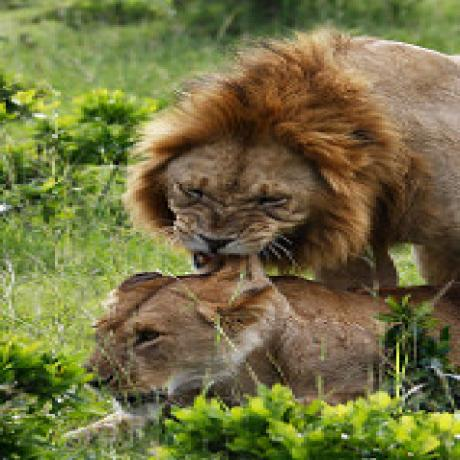Lion: (124, 28, 460, 282), (56, 272, 460, 434)
